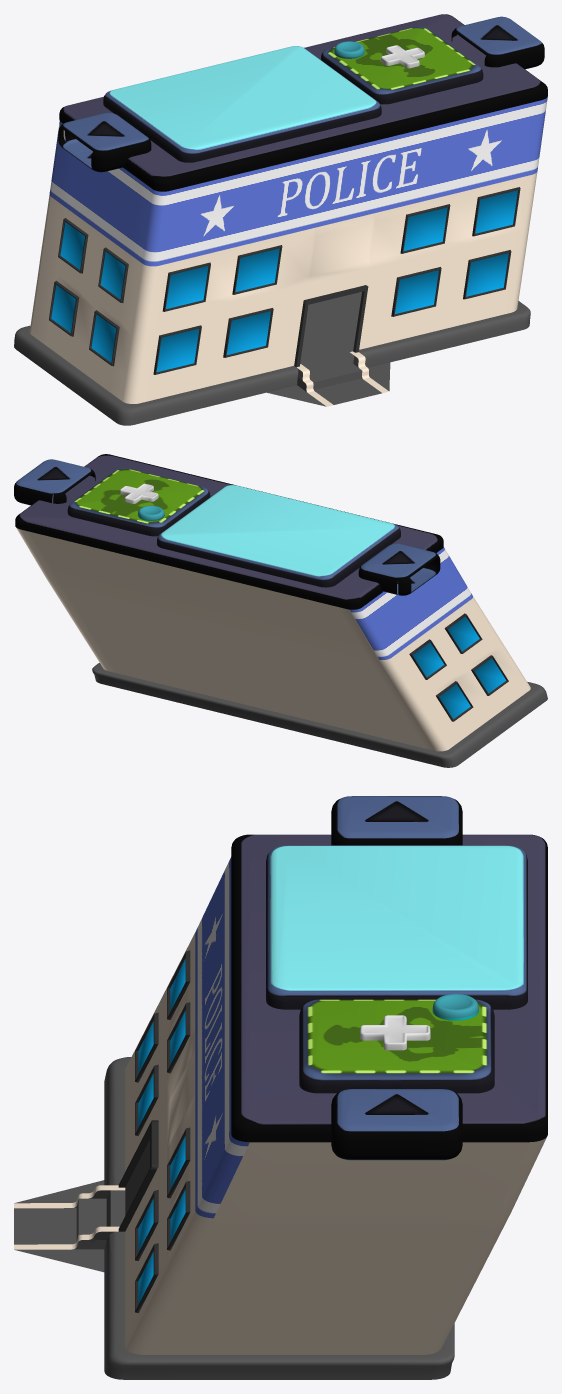
The model's file is PoliceBuilding+Hud.fbx.
3 renders of one model, top to bottom at view 1: azimuth 30°, elevation 25°; view 2: azimuth 150°, elevation 25°; view 3: azimuth 270°, elevation 25°, orthographic. The views are drawn at different scales.
Parts seen in each view (by area): view 1: InterrogationBuilding, ProcessIcon, MainPlane, ManagerIcon, Arrow1, Arrow2, Plus; view 2: InterrogationBuilding, ProcessIcon, MainPlane, ManagerIcon, Arrow1, Arrow2, Plus; view 3: InterrogationBuilding, ProcessIcon, MainPlane, ManagerIcon, Arrow2, Arrow1, Plus, Icon_Yellow.
Boxes of the visible parts, x1,y1,x2,y2 form: InterrogationBuilding: (14, 97, 547, 425); ProcessIcon: (103, 46, 381, 162); MainPlane: (59, 14, 547, 191); ManagerIcon: (321, 26, 483, 104); Arrow1: (58, 112, 151, 172); Arrow2: (451, 16, 544, 69); Plus: (380, 45, 424, 68); InterrogationBuilding: (16, 527, 547, 767); ProcessIcon: (157, 485, 400, 587); MainPlane: (15, 454, 443, 609); ManagerIcon: (67, 468, 210, 536); Arrow1: (358, 543, 440, 595); Arrow2: (14, 459, 95, 505); Plus: (120, 483, 158, 503); InterrogationBuilding: (14, 857, 546, 1379); ProcessIcon: (266, 845, 527, 1009); MainPlane: (231, 834, 547, 1142); ManagerIcon: (299, 999, 494, 1093); Arrow2: (331, 1089, 462, 1160); Arrow1: (331, 796, 462, 845); Plus: (360, 1015, 430, 1050); Icon_Yellow: (432, 994, 478, 1020).
Size of the model in its own units: 909 by 550 by 370.
